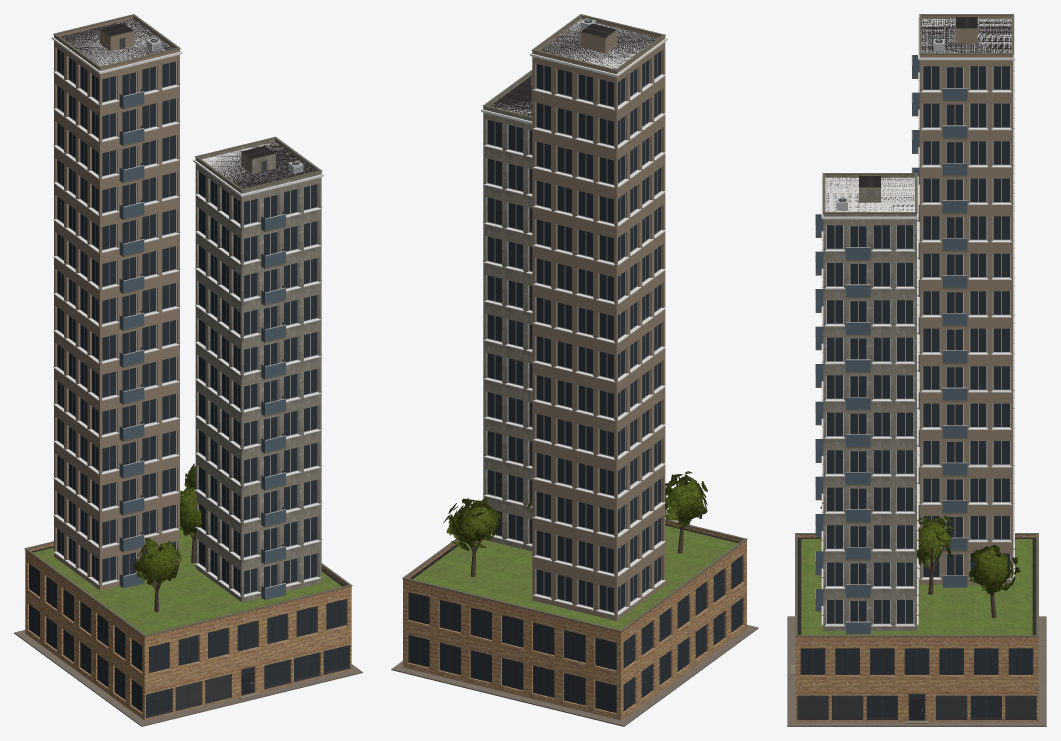
File: tower_twin.glb
The picture shows the model from 3 angles, left to right: view 1: azimuth 30°, elevation 25°; view 2: azimuth 150°, elevation 25°; view 3: azimuth 270°, elevation 25°; orthographic projection. The views are drawn at different scales.
Parts seen in each view (by area): view 1: tower_twin_body, tower_twin_foliage; view 2: tower_twin_body, tower_twin_foliage; view 3: tower_twin_body, tower_twin_foliage.
Boxes of the visible parts, x1,y1,x2,y2 form: tower_twin_body: (14, 14, 362, 726); tower_twin_foliage: (133, 463, 201, 590); tower_twin_body: (391, 14, 758, 726); tower_twin_foliage: (443, 471, 707, 551); tower_twin_body: (787, 14, 1046, 726); tower_twin_foliage: (820, 503, 1020, 594).
Size of the model in its own units: 0.94 by 2.51 by 0.94.
23 materials, 12 textured.
